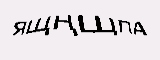Ң: (51, 10, 79, 43)
